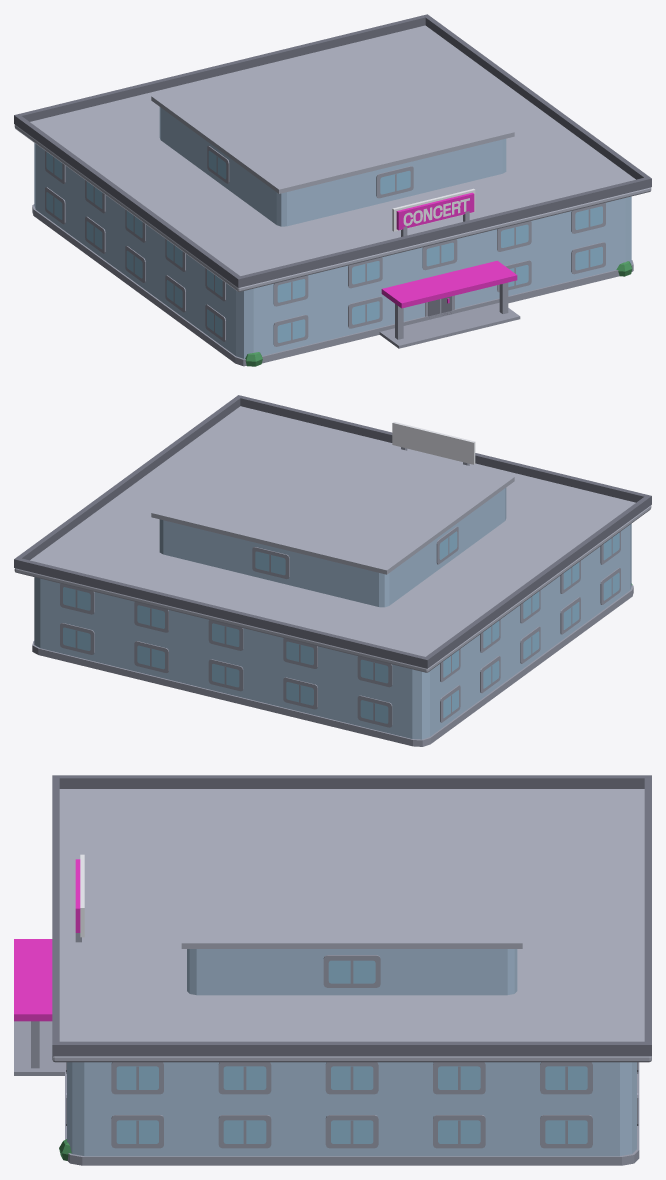
The model's file is concert-hall-3x3.glb.
3 renders of one model, top to bottom at view 1: azimuth 30°, elevation 25°; view 2: azimuth 150°, elevation 25°; view 3: azimuth 270°, elevation 25°, orthographic. The views are drawn at different scales.
Visible parts, largest first — view 1: concert-hall-3x3; view 2: concert-hall-3x3; view 3: concert-hall-3x3.
Part boxes in pixels (x1=…): concert-hall-3x3: x1=14, y1=14, x2=651, y2=366; concert-hall-3x3: x1=14, y1=395, x2=651, y2=746; concert-hall-3x3: x1=14, y1=775, x2=651, y2=1165.
Bounding box in the file's own units: 3 × 0.881 × 3.
Materials: 1 (1 with a texture image).
